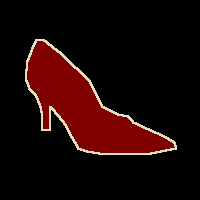shoe: (26, 40, 176, 154)
